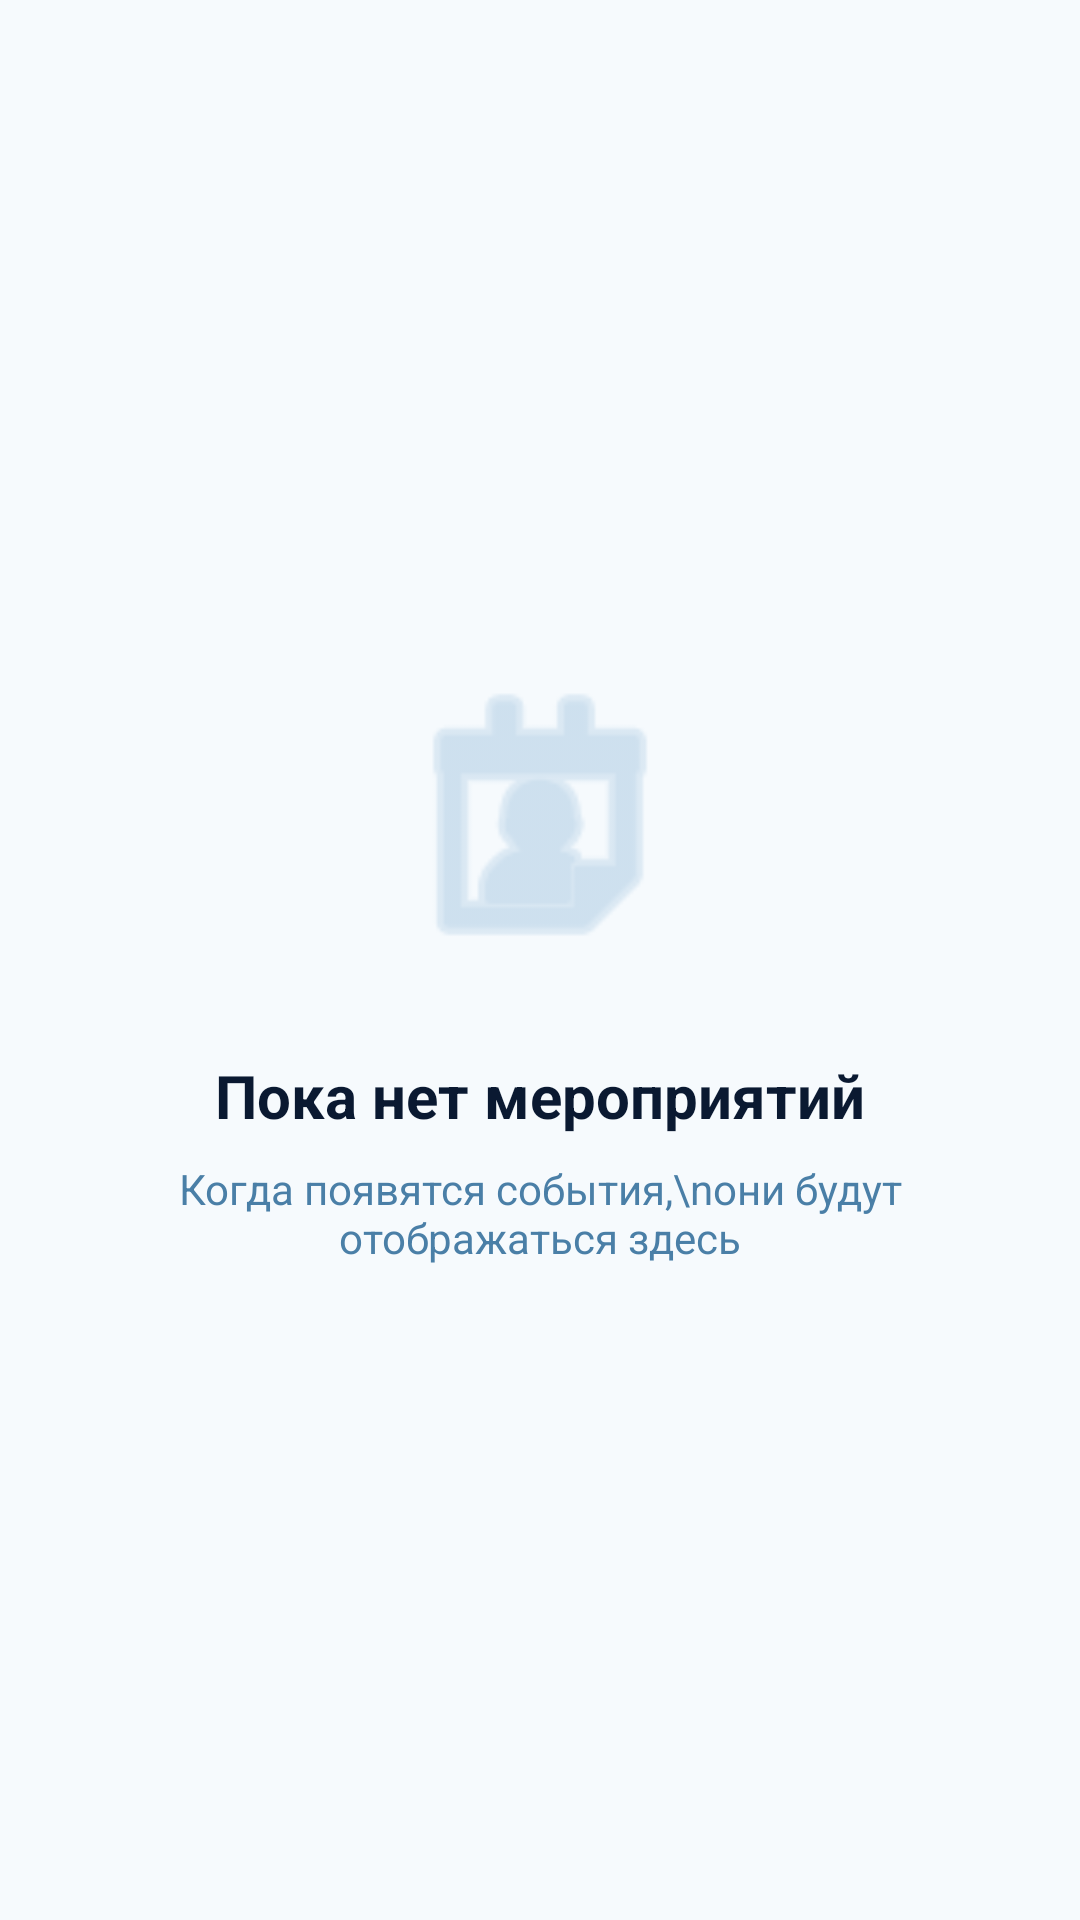

Screen size 1080 x 1920. Icon name, then its box in pixels as (x1, y1, x2, y2):
calendar: (435, 697, 645, 932)
